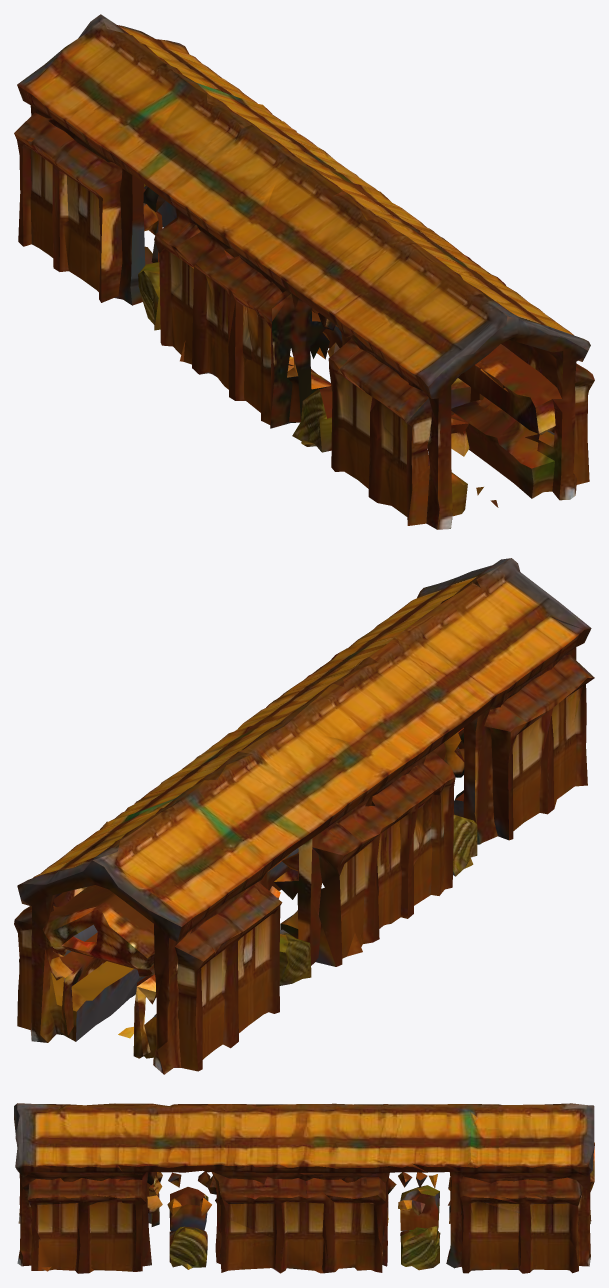
The model's file is nishiki-market.glb.
The picture shows the model from 3 angles, top to bottom: view 1: azimuth 30°, elevation 25°; view 2: azimuth 150°, elevation 25°; view 3: azimuth 270°, elevation 25°; orthographic projection. The views are drawn at different scales.
Visible parts, largest first — view 1: logan-textured.obj; view 2: logan-textured.obj; view 3: logan-textured.obj.
Boxes of the visible parts, x1,y1,x2,y2 form: logan-textured.obj: [14, 14, 594, 529]; logan-textured.obj: [14, 558, 594, 1074]; logan-textured.obj: [14, 1103, 594, 1273].
Bounding box in the file's own units: 0.2635 × 0.2678 × 1.
1 material, 1 textured.
